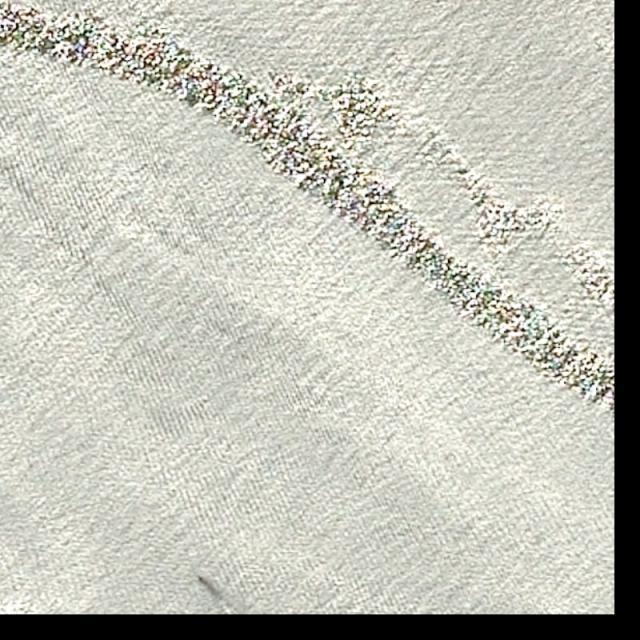ship: (198, 573, 210, 587)
